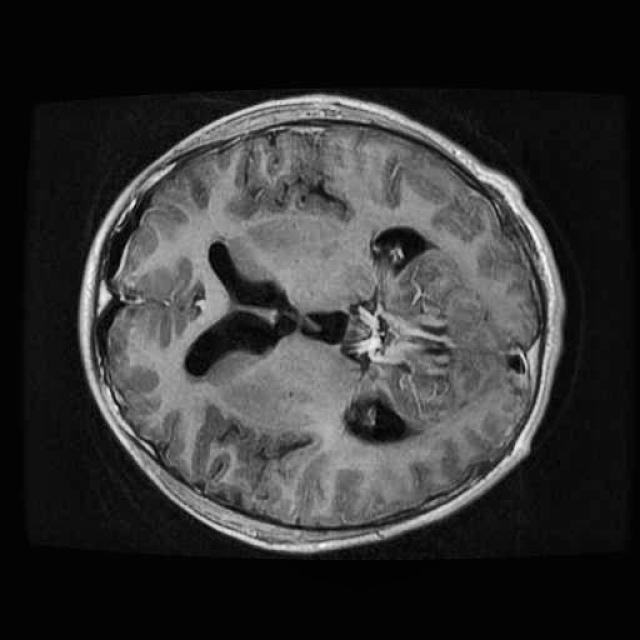Non-Tumor: (346, 235, 508, 439)
